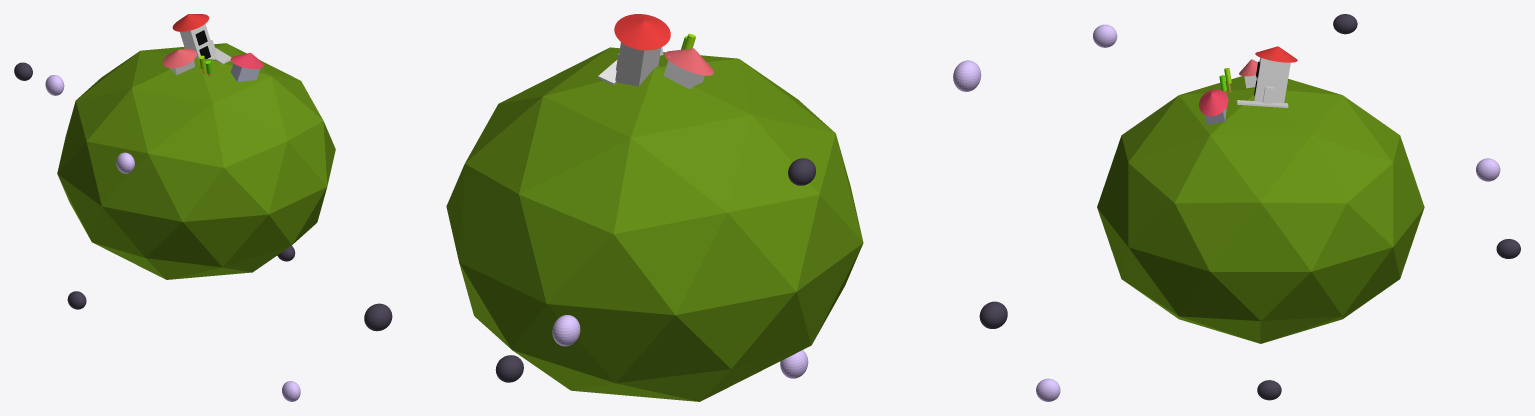
The picture shows the model from 3 angles, left to right: view 1: azimuth 30°, elevation 25°; view 2: azimuth 150°, elevation 25°; view 3: azimuth 270°, elevation 25°; orthographic projection. The views are drawn at different scales.
Parts seen in each view (by area): view 1: Icosphere, Cube.002, Cone.001, Cone.002, Cone, Cube, Sphere.005, Sphere.008, Sphere.007, Sphere.004; view 2: Icosphere, Cone.002, Cube.002, Cone.001, Sphere.008, Sphere.005, Sphere, Sphere.004, Sphere.003, Sphere.001, Cube.001, Sphere.007; view 3: Icosphere, Cube.002, Cone, Sphere.005, Sphere.007, Sphere.008, Cone.002.
Boxes of the visible parts, bbox=[...] form: Icosphere: bbox=[57, 43, 335, 279]; Cube.002: bbox=[180, 24, 215, 59]; Cone.001: bbox=[162, 48, 196, 68]; Cone.002: bbox=[172, 14, 209, 31]; Cone: bbox=[230, 52, 264, 69]; Cube: bbox=[230, 63, 259, 81]; Sphere.005: bbox=[45, 75, 64, 95]; Sphere.008: bbox=[116, 152, 134, 173]; Sphere.007: bbox=[282, 381, 300, 401]; Sphere.004: bbox=[67, 291, 86, 309]; Icosphere: bbox=[446, 47, 863, 401]; Cone.002: bbox=[614, 14, 670, 50]; Cube.002: bbox=[615, 42, 660, 86]; Cone.001: bbox=[664, 48, 714, 75]; Sphere.008: bbox=[953, 60, 981, 91]; Sphere.005: bbox=[552, 315, 580, 346]; Sphere: bbox=[364, 303, 392, 331]; Sphere.004: bbox=[979, 301, 1007, 328]; Sphere.003: bbox=[788, 158, 815, 185]; Sphere.001: bbox=[495, 355, 523, 382]; Cube.001: bbox=[663, 56, 704, 89]; Sphere.007: bbox=[780, 350, 808, 378]; Icosphere: bbox=[1097, 76, 1424, 343]; Cube.002: bbox=[1254, 57, 1290, 103]; Cone: bbox=[1199, 89, 1228, 116]; Sphere.005: bbox=[1476, 158, 1500, 181]; Sphere.007: bbox=[1036, 378, 1060, 401]; Sphere.008: bbox=[1093, 24, 1117, 47]; Cone.002: bbox=[1255, 46, 1297, 62].
Size of the model in its own units: 9.6 by 9.64 by 11.97.
